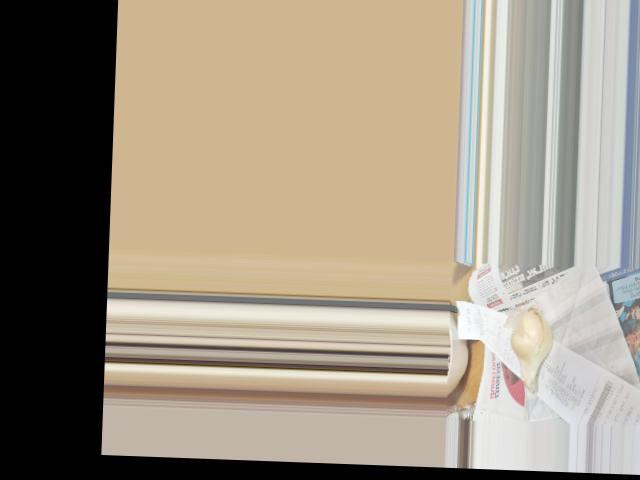onion: (512, 310, 555, 384)
